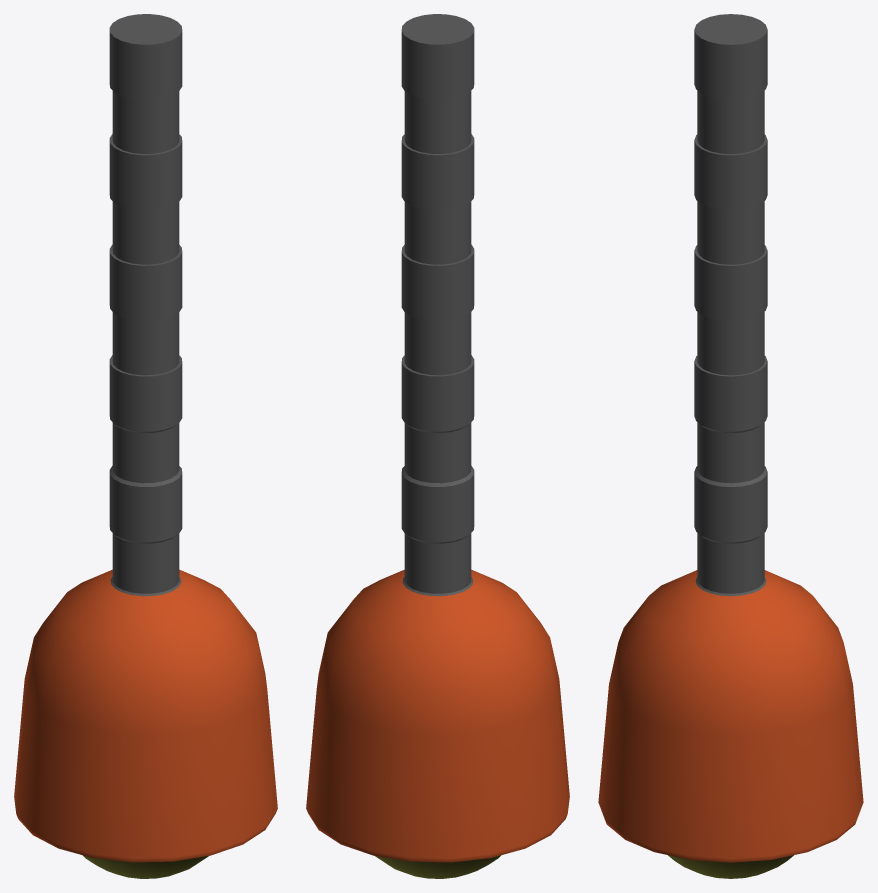
The model's file is lamp.fbx.
3 views of the same model, side by side, from view 1: azimuth 30°, elevation 25°; view 2: azimuth 150°, elevation 25°; view 3: azimuth 270°, elevation 25° (orthographic).
Parts seen in each view (by area): view 1: pCylinder2, pCylinder1, pSphere1; view 2: pCylinder2, pCylinder1, pSphere1; view 3: pCylinder2, pCylinder1, pSphere1.
Boxes of the visible parts, x1,y1,x2,y2 form: pCylinder2: (14, 569, 277, 862); pCylinder1: (109, 14, 182, 596); pSphere1: (83, 855, 209, 878); pCylinder2: (306, 569, 569, 862); pCylinder1: (401, 14, 474, 596); pSphere1: (374, 855, 500, 878); pCylinder2: (598, 570, 863, 862); pCylinder1: (694, 14, 767, 596); pSphere1: (668, 855, 793, 878).
Bounding box in the file's own units: 0.2174 × 0.7601 × 0.2174.
